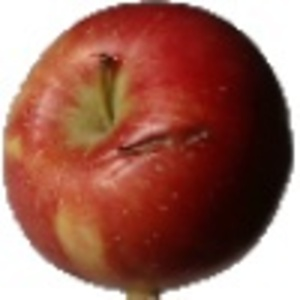maçã braeburn: (1, 1, 298, 291)
